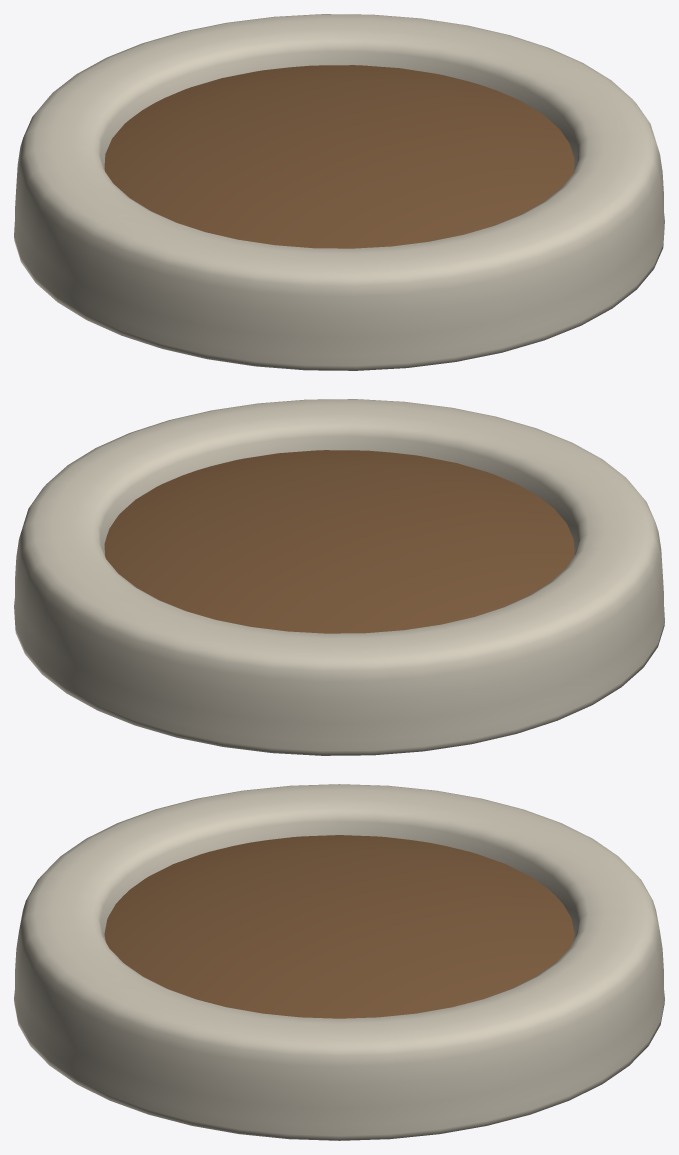
File: planter_small.glb
The picture shows the model from 3 angles, top to bottom: view 1: azimuth 30°, elevation 25°; view 2: azimuth 150°, elevation 25°; view 3: azimuth 270°, elevation 25°; orthographic projection.
Visible parts, largest first — view 1: planter_small; view 2: planter_small; view 3: planter_small.
Part boxes in pixels (x1,y1,x2,y2): planter_small: [14, 14, 664, 370]; planter_small: [14, 399, 664, 755]; planter_small: [14, 784, 664, 1140].
Bounding box in the file's own units: 3.29 × 0.5474 × 3.29.
